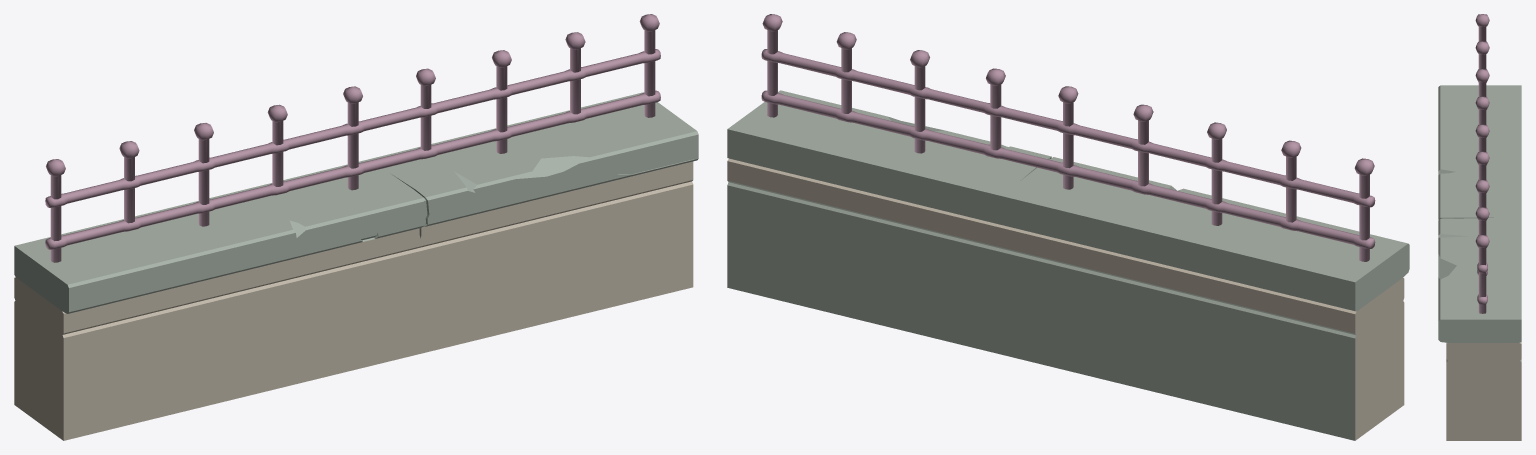
Rendered from OutsideFence.fbx.
3 views of the same model, side by side, from view 1: azimuth 30°, elevation 25°; view 2: azimuth 150°, elevation 25°; view 3: azimuth 270°, elevation 25° (orthographic). The views are drawn at different scales.
Parts seen in each view (by area): view 1: Cube, Cube.007; view 2: Cube, Cube.007; view 3: Cube, Cube.007.
Boxes of the visible parts, left/top/right/bottom form: Cube: left=14, top=92, right=698, bottom=440; Cube.007: left=45, top=14, right=660, bottom=262; Cube: left=727, top=90, right=1409, bottom=440; Cube.007: left=761, top=14, right=1375, bottom=261; Cube: left=1438, top=85, right=1521, bottom=440; Cube.007: left=1475, top=14, right=1489, bottom=313.
Bounding box in the file's own units: 732 × 288 × 110.
